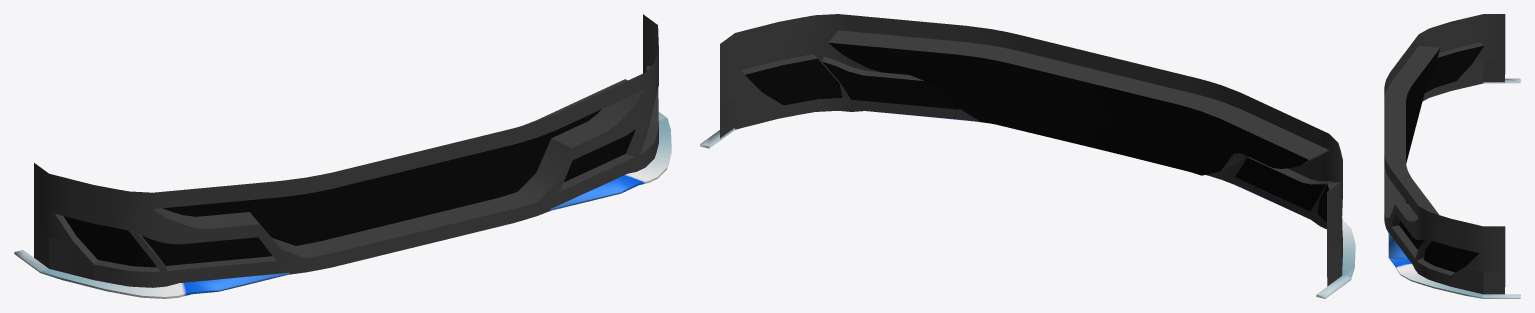
File: FrontBumperBMW.fbx
The picture shows the model from 3 angles, left to right: view 1: azimuth 30°, elevation 25°; view 2: azimuth 150°, elevation 25°; view 3: azimuth 270°, elevation 25°; orthographic projection. The views are drawn at different scales.
Parts seen in each view (by area): view 1: CarColorObject.008, CarColorObject.015, CarColorObject.023; view 2: CarColorObject.008, CarColorObject.015, CarColorObject.023; view 3: CarColorObject.008, CarColorObject.015, CarColorObject.023.
Boxes of the visible parts, x1,y1,x2,y2 form: CarColorObject.008: (34, 14, 658, 287); CarColorObject.015: (63, 109, 635, 267); CarColorObject.023: (14, 112, 671, 298); CarColorObject.008: (720, 14, 1342, 286); CarColorObject.015: (745, 42, 1328, 222); CarColorObject.023: (700, 115, 1355, 298); CarColorObject.008: (1384, 14, 1505, 294); CarColorObject.015: (1399, 45, 1484, 272); CarColorObject.023: (1388, 78, 1520, 298).
Size of the model in its own units: 191 by 28.22 by 50.27.
